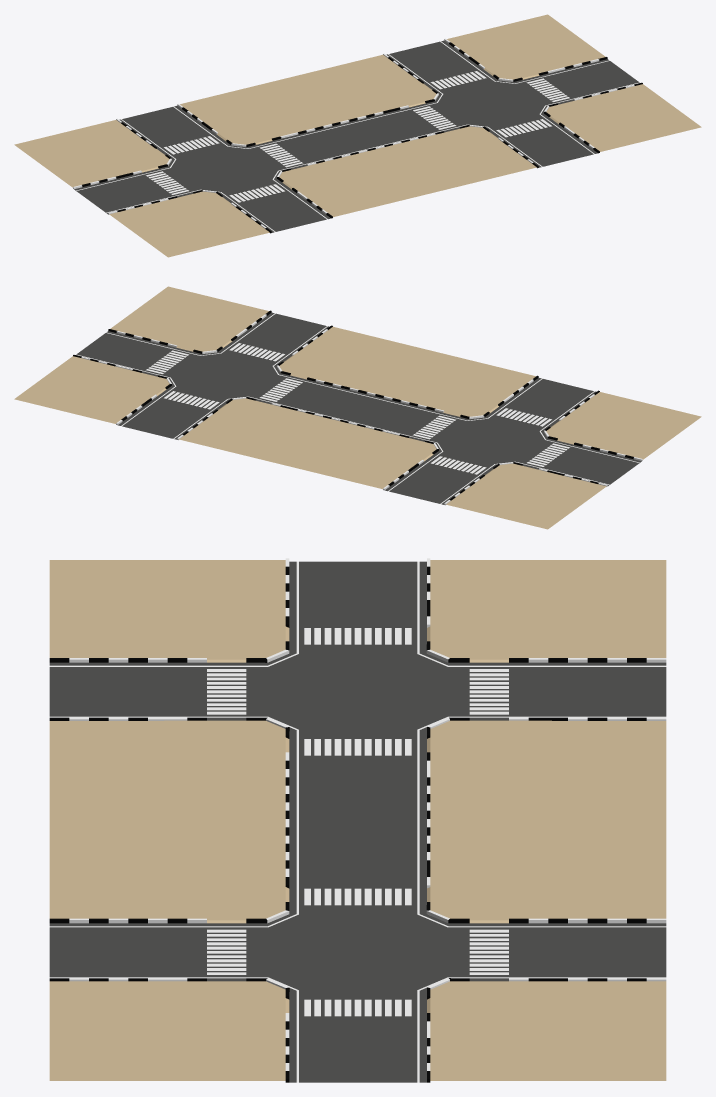
File: crossroads_1.fbx
The picture shows the model from 3 angles, top to bottom: view 1: azimuth 30°, elevation 25°; view 2: azimuth 150°, elevation 25°; view 3: azimuth 270°, elevation 25°; orthographic projection. The views are drawn at different scales.
Visible parts, largest first — view 1: crossroads_1; view 2: crossroads_1; view 3: crossroads_1.
Part boxes in pixels (x1=…): crossroads_1: x1=14, y1=14, x2=701, y2=257; crossroads_1: x1=14, y1=286, x2=701, y2=529; crossroads_1: x1=49, y1=558, x2=666, y2=1082.
Size of the model in its own units: 5429 by 15.64 by 2714.
